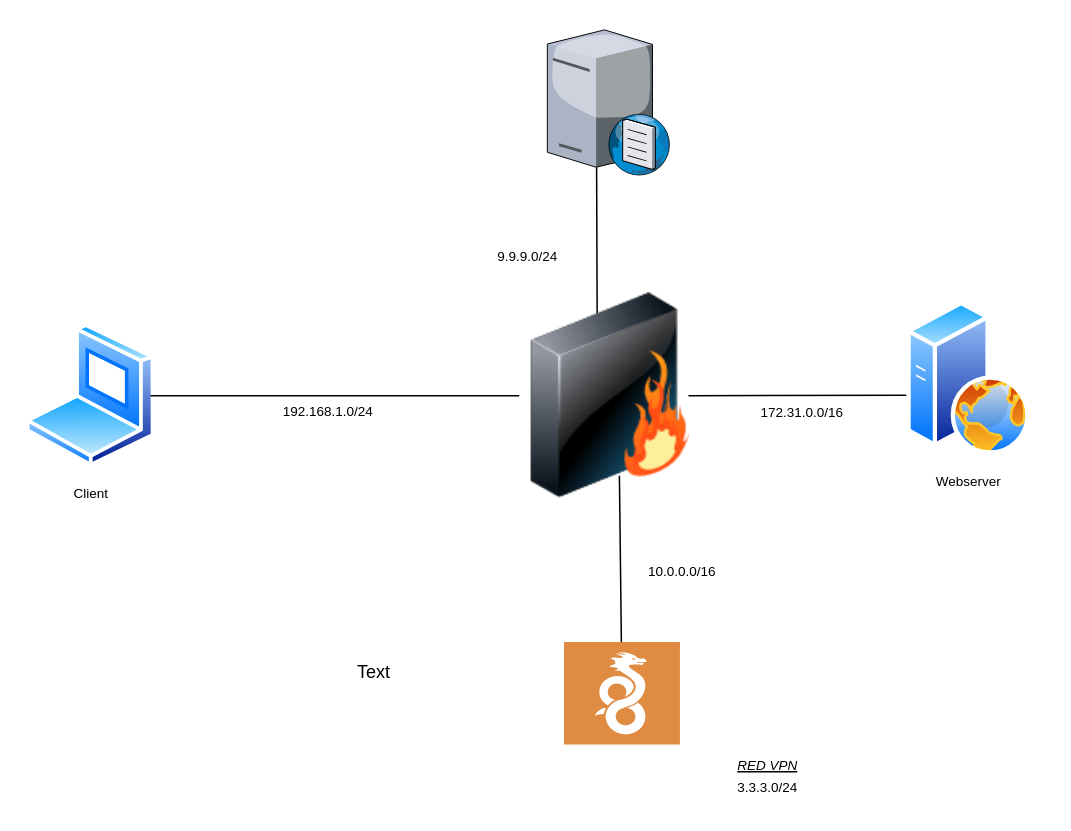
Some shapes in this 1071 by 831 pixel diagram are drawn without their labels. The centre of each missing label's shape, as x and y in pixels:
"DNS server" goes at pixel 608 100.
"Wireguard VPN server" goes at pixel 621 692.
